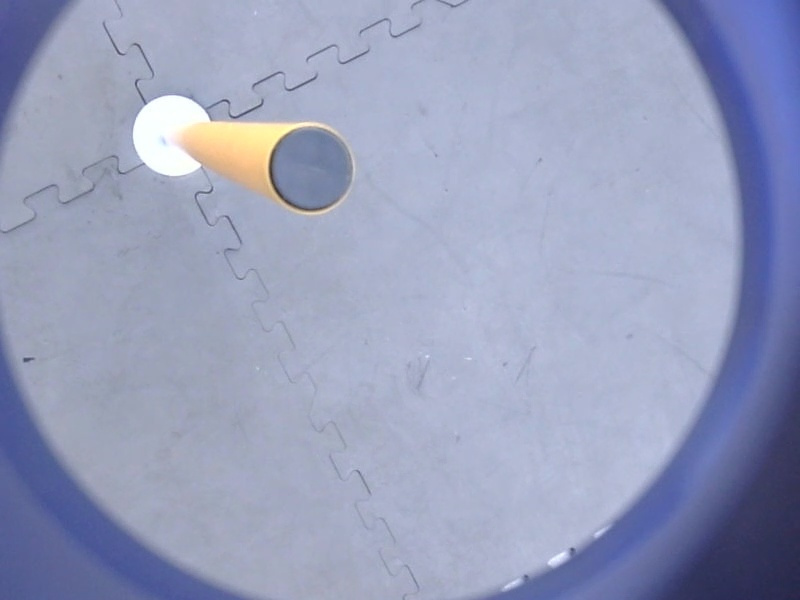tip: (263, 117, 362, 218)
